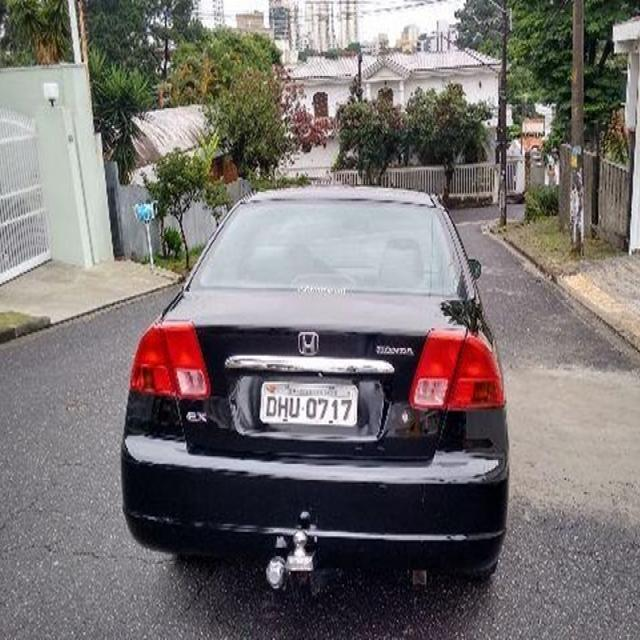Placa: (257, 376, 361, 427)
